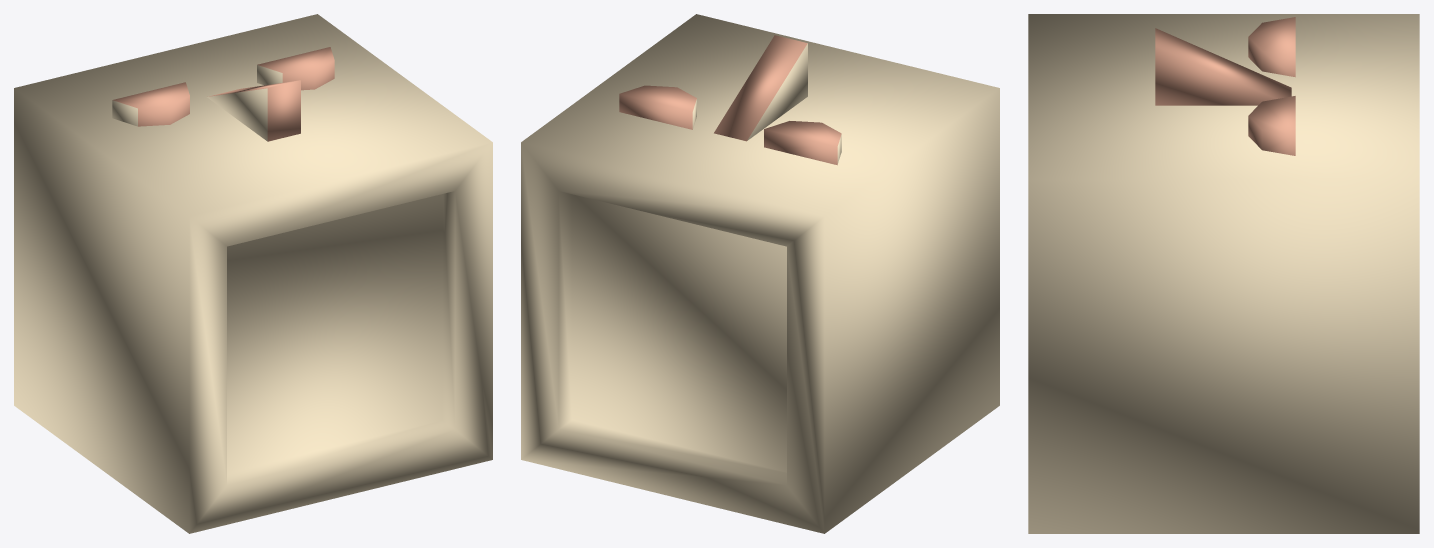
3 views of the same model, side by side, from view 1: azimuth 30°, elevation 25°; view 2: azimuth 150°, elevation 25°; view 3: azimuth 270°, elevation 25° (orthographic). The views are drawn at different scales.
Visible parts, largest first — view 1: face; view 2: face; view 3: face.
Boxes of the visible parts, x1,y1,x2,y2 form: face: [14, 14, 492, 533]; face: [521, 14, 999, 533]; face: [1028, 14, 1419, 533].
Size of the model in its own units: 65.98 by 88.2 by 65.98.
